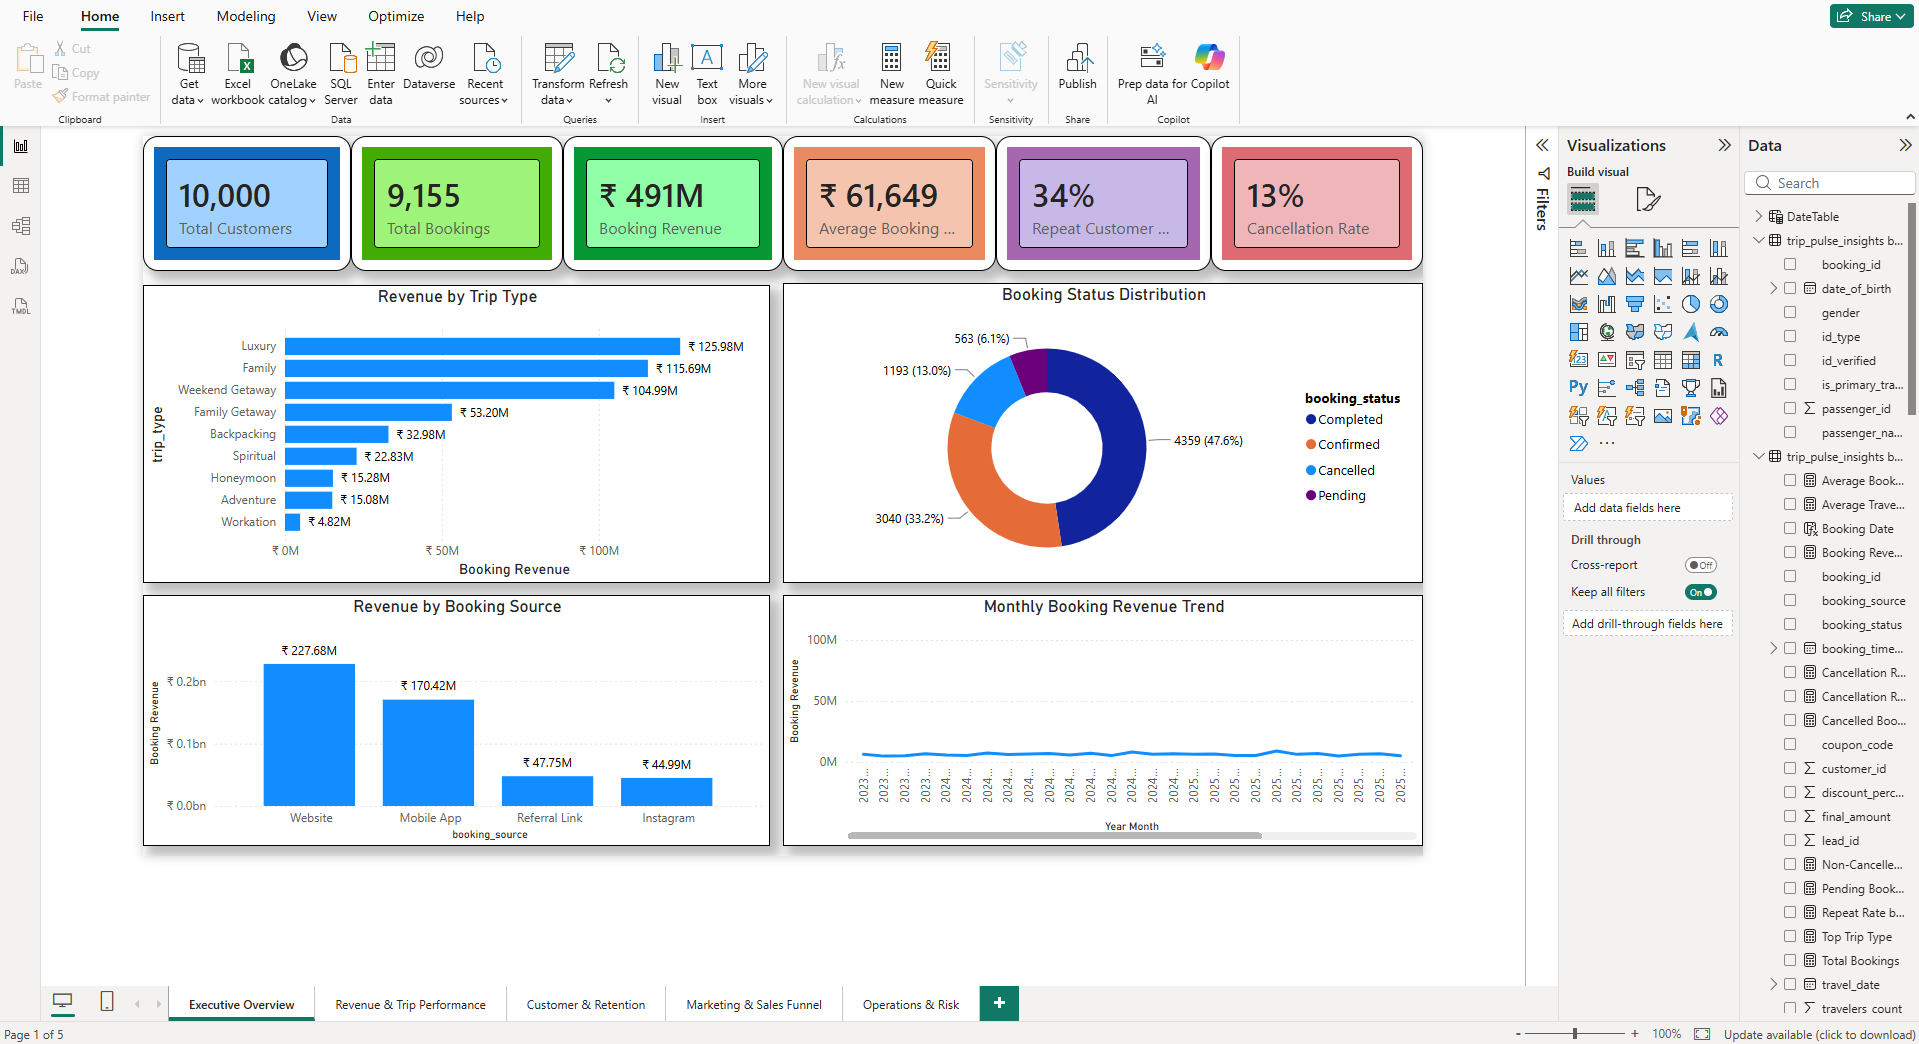

What the dashboard file says about the page in this screenshot:
{"tool":"powerbi","page":{"name":"Executive Overview","canvas":[1280,720],"ordinal":0},"visuals":[{"type":"cardVisual","fields":{"Data":["trip_pulse_insights customers.Total Customers"]},"box":[0,0,207.5,135],"z":0},{"type":"cardVisual","fields":{"Data":["trip_pulse_insights bookings.Total Bookings"]},"box":[207.5,0,212.5,135],"z":1000},{"type":"cardVisual","fields":{"Data":["trip_pulse_insights bookings.Booking Revenue"]},"box":[420,0,220,135],"z":2000},{"type":"cardVisual","fields":{"Data":["trip_pulse_insights bookings.Average Booking Value"]},"box":[640,0,212.5,135],"z":3000},{"type":"cardVisual","fields":{"Data":["trip_pulse_insights customers.Repeat Customer Rate"]},"box":[852.5,0,215,135],"z":4000},{"type":"cardVisual","fields":{"Data":["trip_pulse_insights bookings.Cancellation Rate"]},"box":[1067.5,0,212.5,135],"z":5000},{"type":"clusteredBarChart","title":"Revenue by Trip Type","fields":{"Y":["trip_pulse_insights bookings.Booking Revenue"],"Category":["trip_pulse_insights trips.trip_type"]},"box":[0,148.6,627.1,298.6],"z":6000},{"type":"donutChart","title":"Booking Status Distribution","fields":{"Category":["trip_pulse_insights bookings.booking_status"],"Y":["trip_pulse_insights bookings.Total Bookings"]},"box":[640,147.1,640,300],"z":7000},{"type":"clusteredColumnChart","title":"Revenue by Booking Source","fields":{"Category":["trip_pulse_insights bookings.booking_source"],"Y":["trip_pulse_insights bookings.Booking Revenue"]},"box":[0,458.6,627.1,251.4],"z":8000},{"type":"lineChart","title":"Monthly Booking Revenue Trend","fields":{"Category":["DateTable.Year Month"],"Y":["trip_pulse_insights bookings.Booking Revenue"]},"box":[640,458.6,640,251.4],"z":9000}]}

Visuals, with their boxes on the page's 1280x720 design canvas (x1, y1, x2, y2). These are canvas units, not pixel positions in the 1919x1044 screenshot, which may show the page scaled, cropped or inside an application window:
cardVisual - trip_pulse_insights customers.Total Customers: [0, 0, 208, 135]
cardVisual - trip_pulse_insights bookings.Total Bookings: [208, 0, 420, 135]
cardVisual - trip_pulse_insights bookings.Booking Revenue: [420, 0, 640, 135]
cardVisual - trip_pulse_insights bookings.Average Booking Value: [640, 0, 852, 135]
cardVisual - trip_pulse_insights customers.Repeat Customer Rate: [852, 0, 1068, 135]
cardVisual - trip_pulse_insights bookings.Cancellation Rate: [1068, 0, 1280, 135]
"Revenue by Trip Type" clusteredBarChart: [0, 149, 627, 447]
"Booking Status Distribution" donutChart: [640, 147, 1280, 447]
"Revenue by Booking Source" clusteredColumnChart: [0, 459, 627, 710]
"Monthly Booking Revenue Trend" lineChart: [640, 459, 1280, 710]
